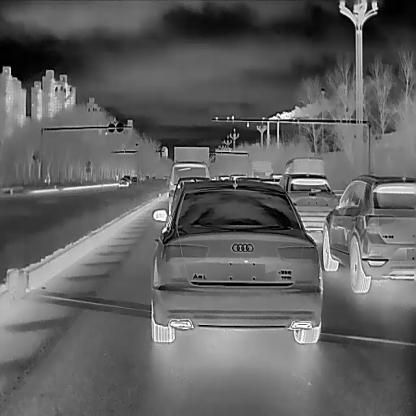car: (151, 181, 322, 343), (322, 173, 415, 293), (276, 174, 340, 232), (168, 161, 209, 198), (283, 158, 324, 182), (247, 160, 272, 190), (119, 177, 127, 187)
